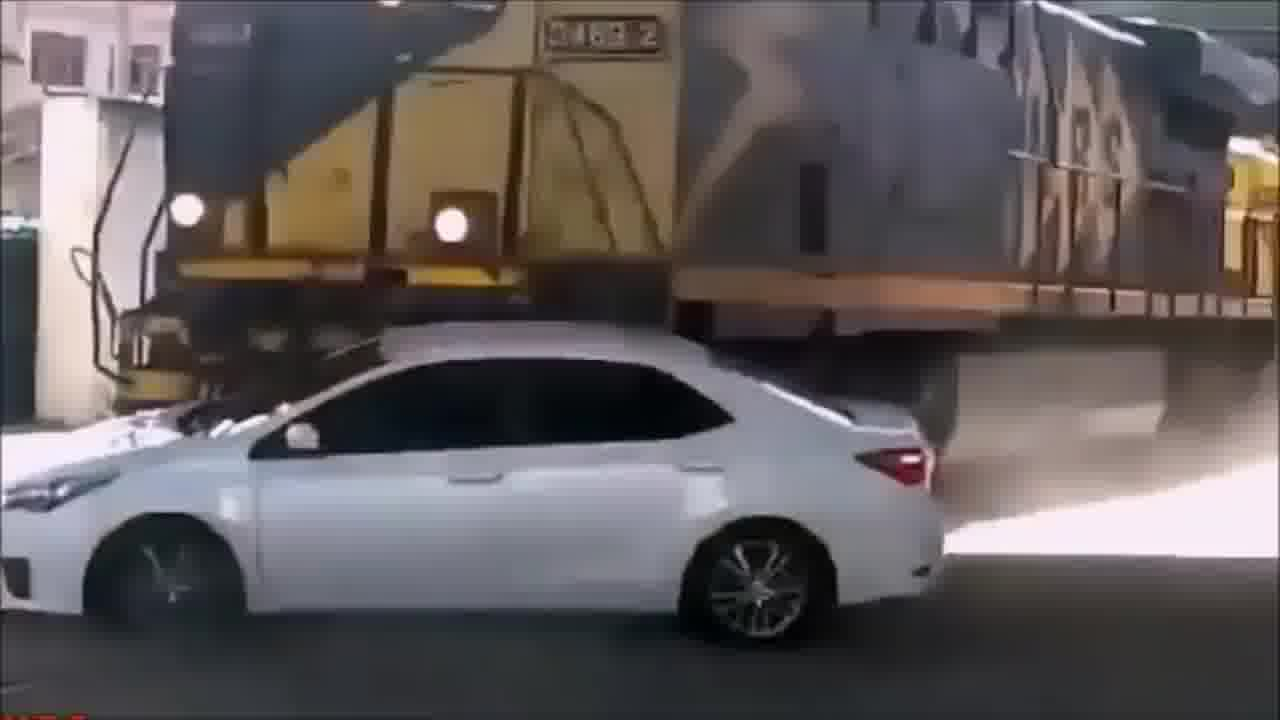crossing railway track: (2, 256, 990, 623)
